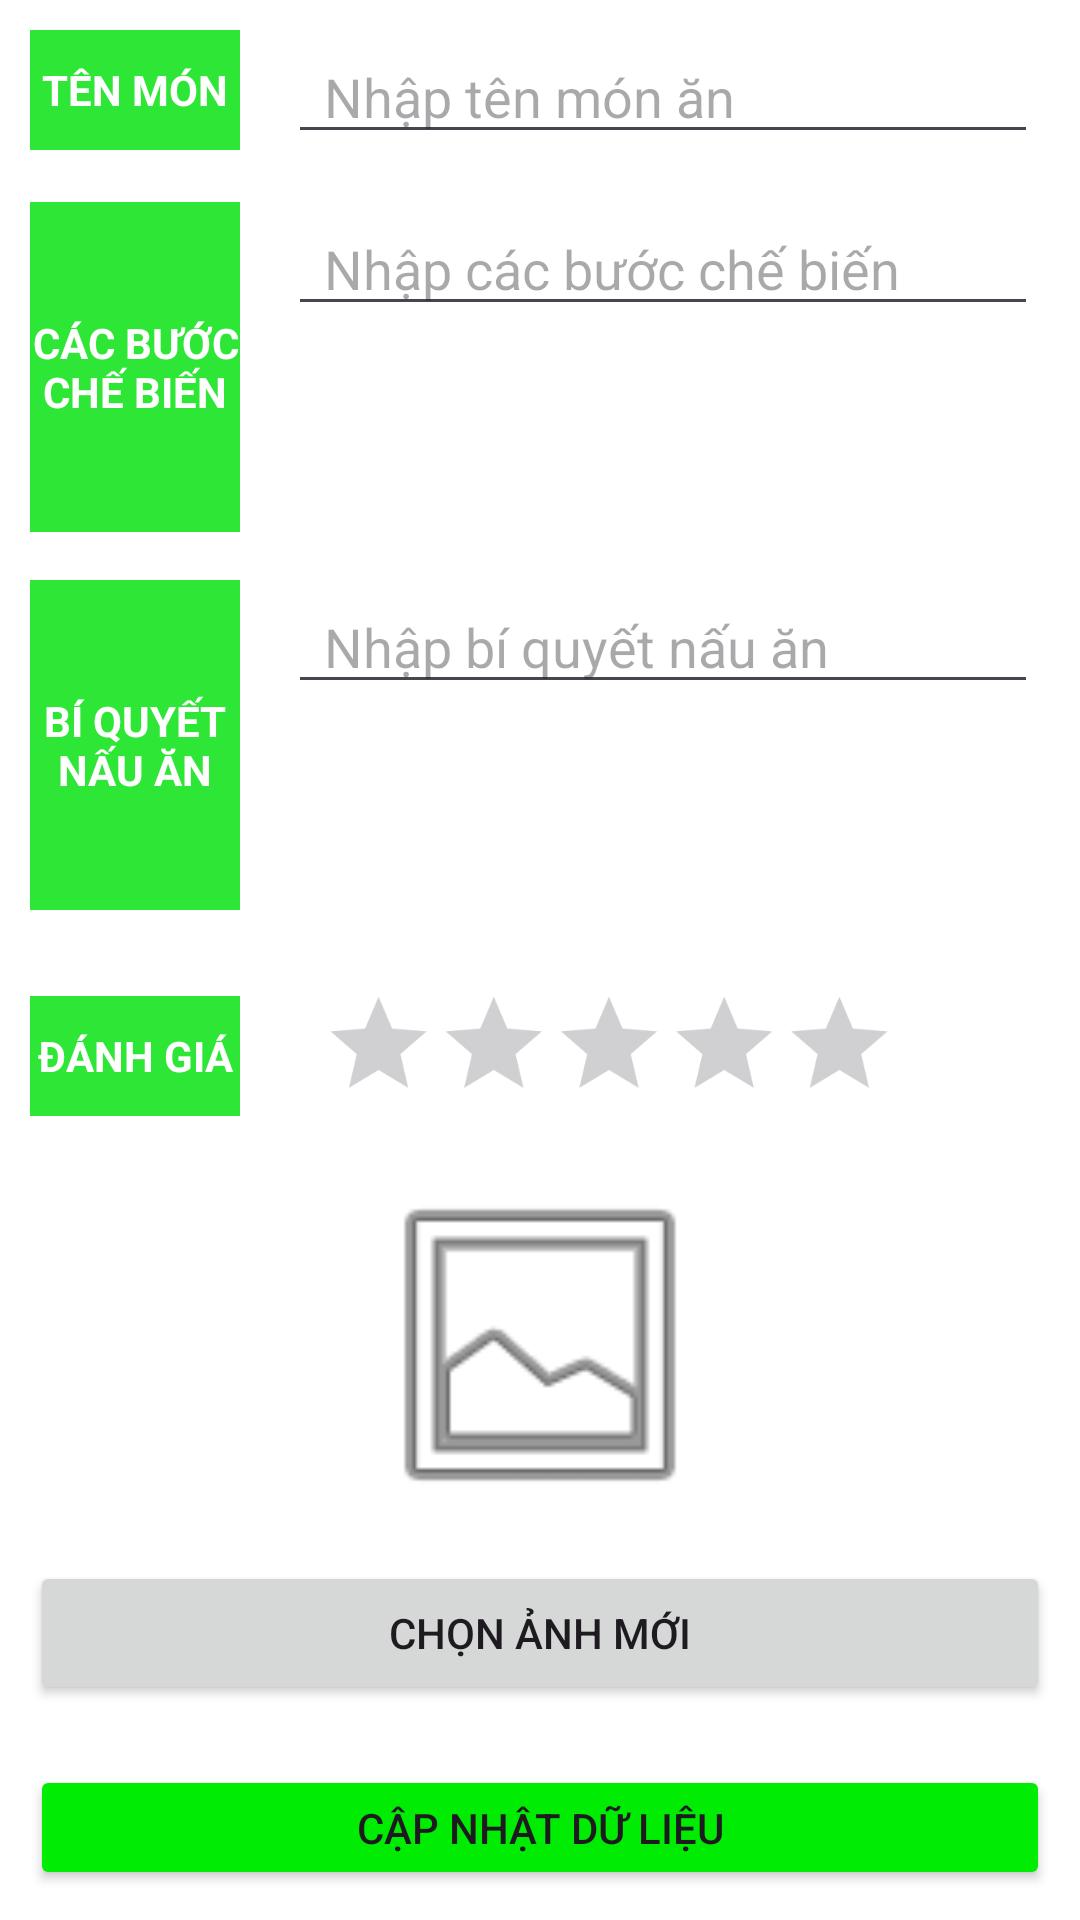

Icons on this 1080w x 1920h Android screen, each with its box as [x1, y1, x2, y2]:
gallery: [404, 1209, 676, 1481]
